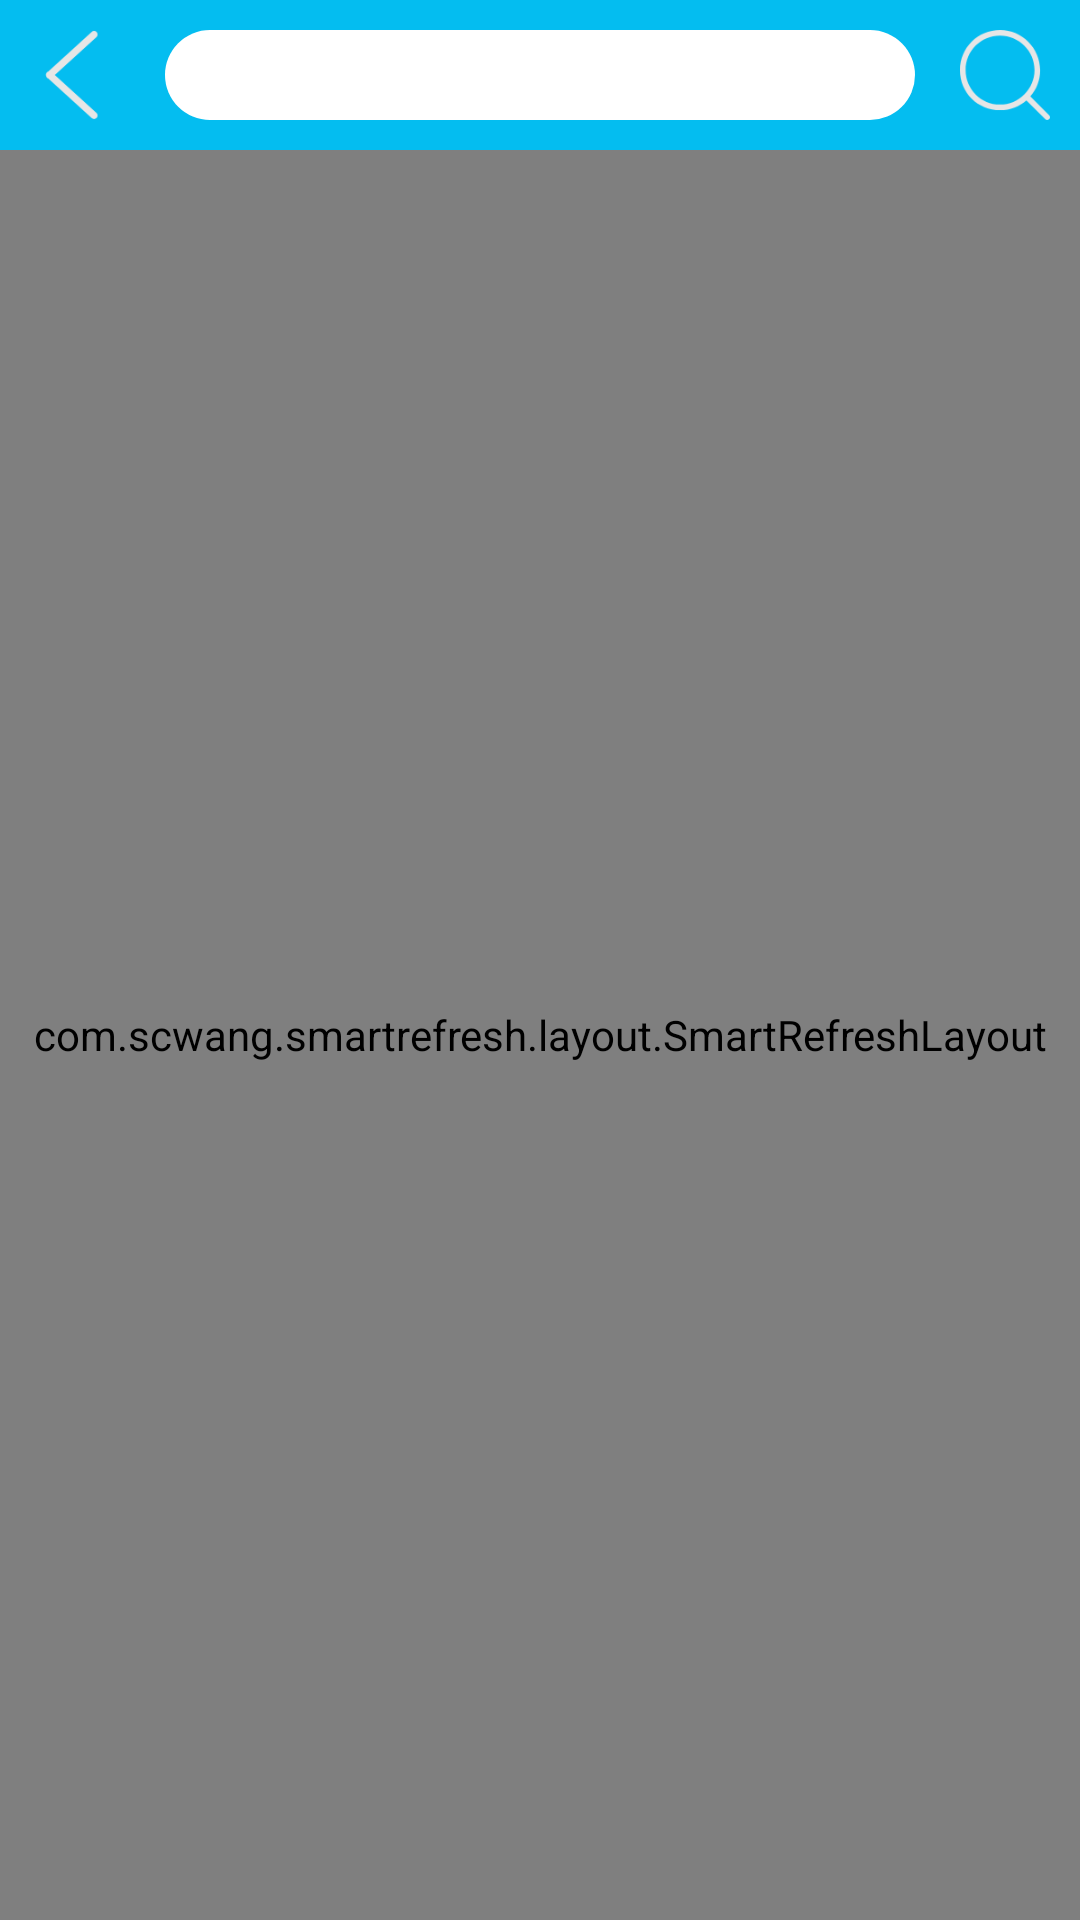

Where to tap for icons on this 1080w x 1920h app screen, as (x=x, y=y):
back: (x=71, y=75)
search: (x=1005, y=75)
